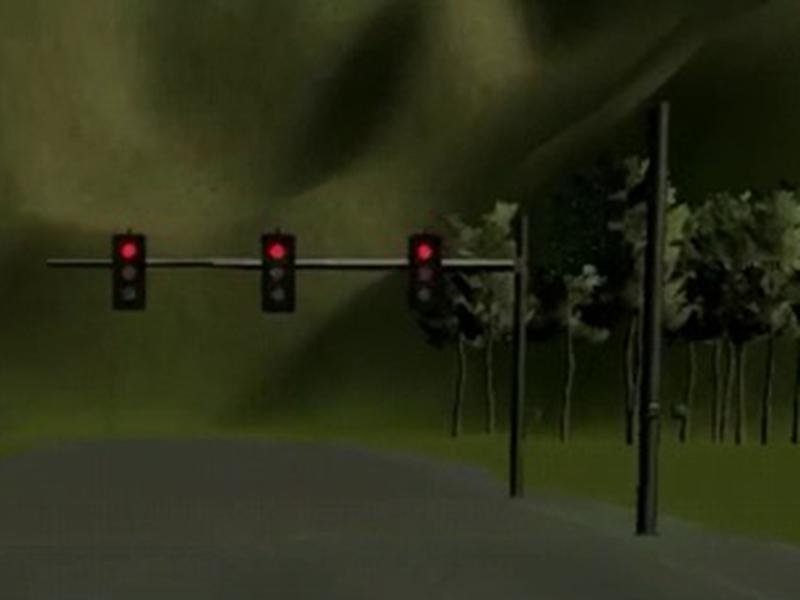Red: (262, 234, 297, 312), (409, 234, 444, 309), (113, 234, 146, 310)
